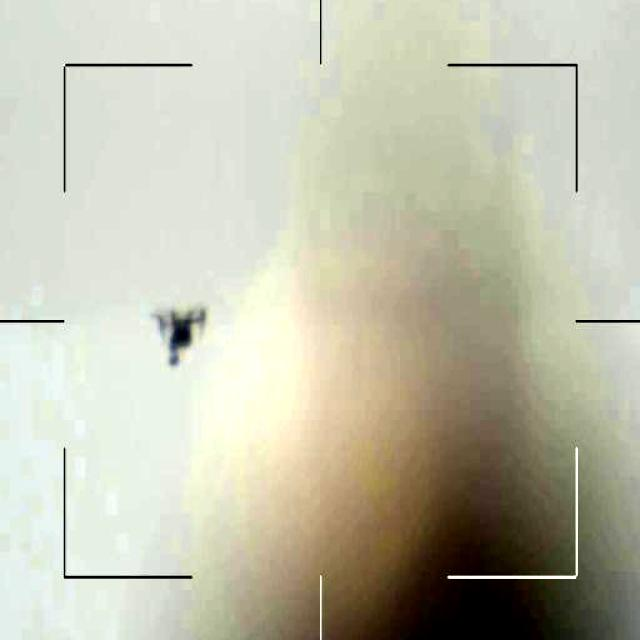bird: (152, 299, 216, 375)
